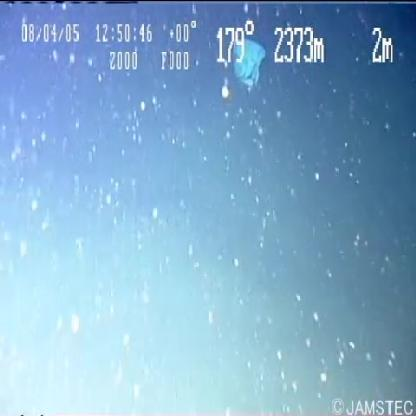Rác: (228, 28, 267, 92)
